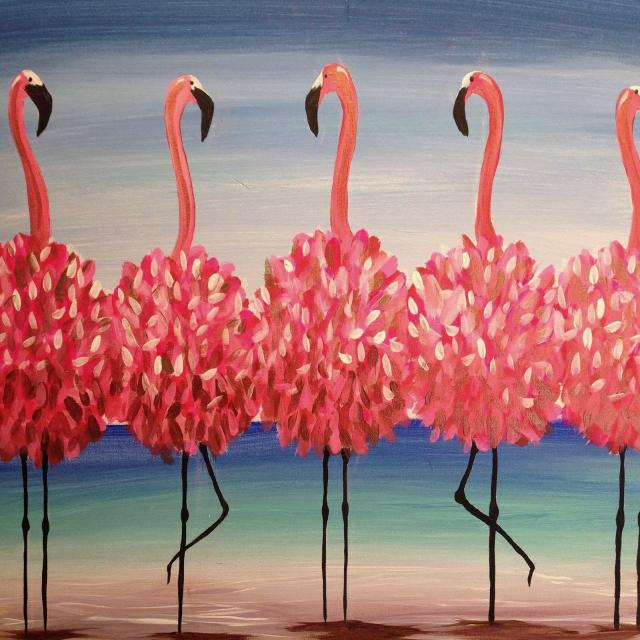flamingo: (255, 64, 406, 620), (411, 71, 560, 622), (116, 76, 255, 633), (0, 70, 114, 630)
